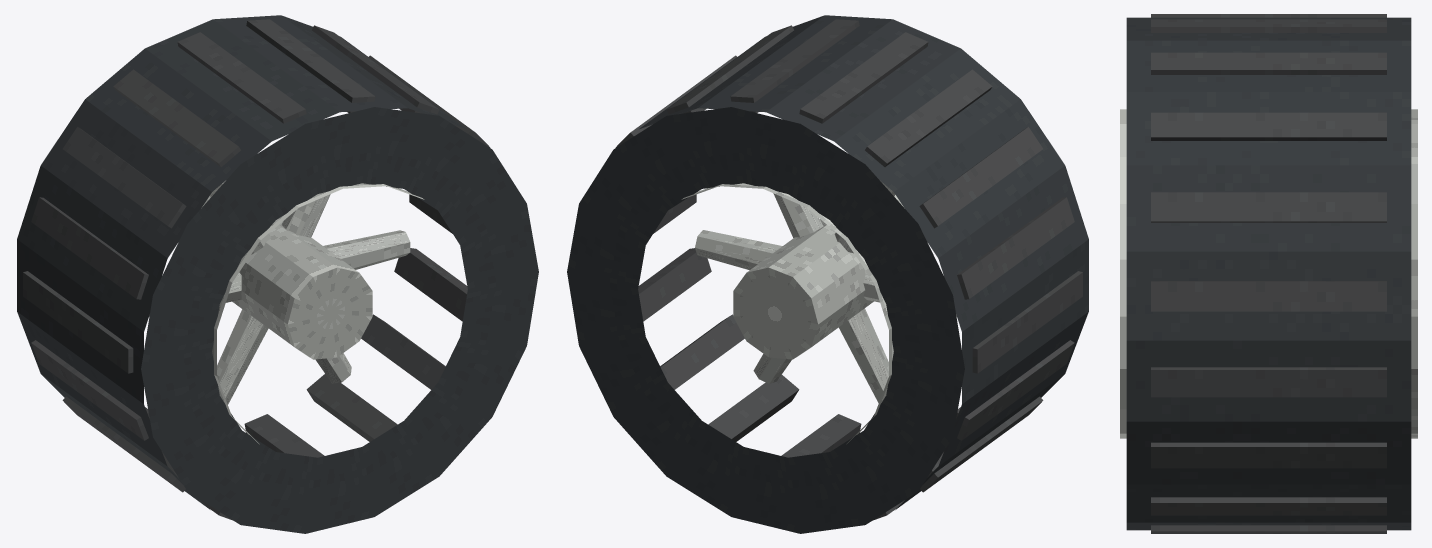
The model's file is wheel_wide.glb.
3 renders of one model, left to right at view 1: azimuth 30°, elevation 25°; view 2: azimuth 150°, elevation 25°; view 3: azimuth 270°, elevation 25°, orthographic. The views are drawn at different scales.
Visible parts, largest first — view 1: block_tire sidewall (×18), block_outer tire, block_raised tread (×13), block_hub, block_spoke (×4), block_rim wall; view 2: block_tire sidewall (×18), block_outer tire, block_raised tread (×13), block_hub, block_spoke (×4), block_rim wall; view 3: block_outer tire, block_raised tread (×10), block_rim wall (×2).
Part boxes in pixels (x1,y1,x2,y2): block_tire sidewall (×18): (141,107,538,533); block_outer tire: (17,15,466,509); block_raised tread (×13): (23,19,467,492); block_hub: (201,196,372,359); block_spoke (×4): (217,194,410,404); block_rim wall: (212,183,424,444); block_tire sidewall (×18): (567,107,964,533); block_outer tire: (639,15,1088,509); block_raised tread (×13): (638,19,1082,492); block_hub: (733,195,904,359); block_spoke (×4): (695,193,888,403); block_rim wall: (681,183,893,444); block_outer tire: (1126,17,1411,530); block_raised tread (×10): (1151,14,1386,533); block_rim wall (×2): (1120,109,1417,438).
Bounding box in the file's own units: 0.61 × 0.6069 × 0.3498.
Materials: 1 (1 with a texture image).
